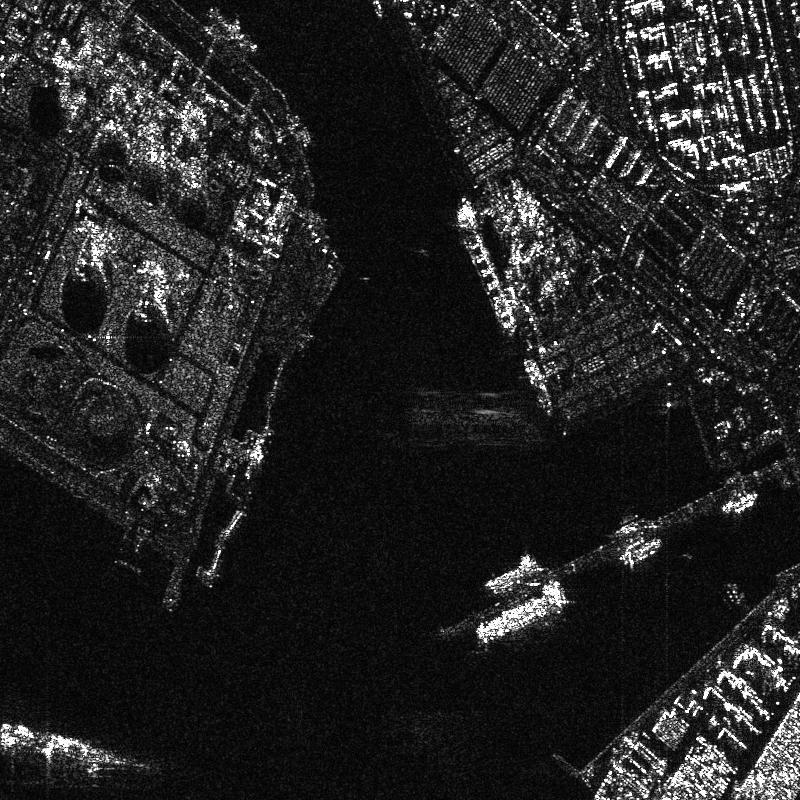ship: (456, 196, 516, 336), (475, 581, 570, 644), (0, 721, 127, 767), (206, 7, 257, 54), (485, 554, 542, 592), (522, 356, 553, 414), (619, 538, 664, 565), (720, 492, 758, 514), (614, 521, 639, 538), (372, 0, 383, 18), (726, 471, 741, 484)
